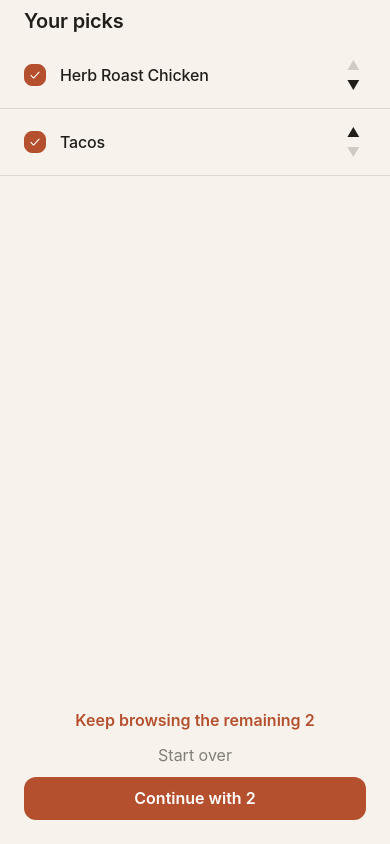
Test: disables Continue once every item is unchecked
Expected: the text "Herb Roast Chicken" is shown, 60,64 -> 209,84
What coordinates should you click on to do the following:
click the checkbox with test id "shortlist-item-r1"
I would click on:
 (195, 76)
Its box is 0,42 -> 389,109.
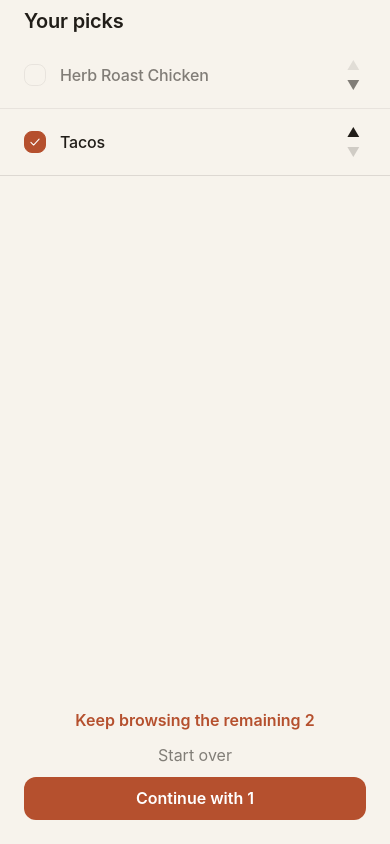
What coordinates should you click on to do the following:
click the checkbox with test id "shortlist-item-r2"
I would click on:
 (195, 142)
Its box is 0,109 -> 389,176.
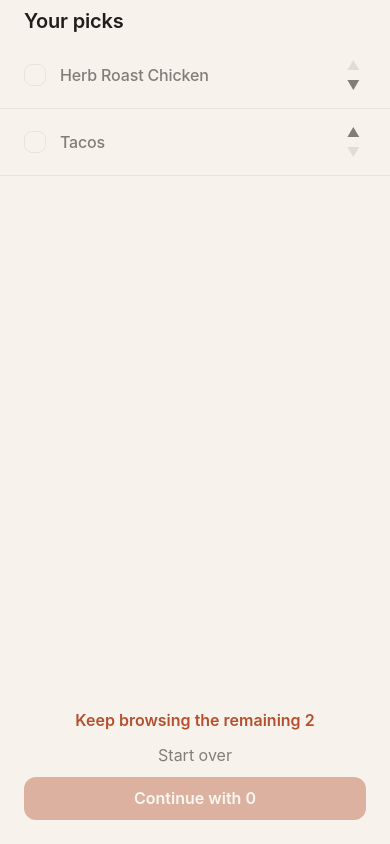
Now the text "Continue with 0" is shown, box 134,785 -> 256,812
Now the button with test id "shortlist-continue" is disabled, box 24,777 -> 366,820
